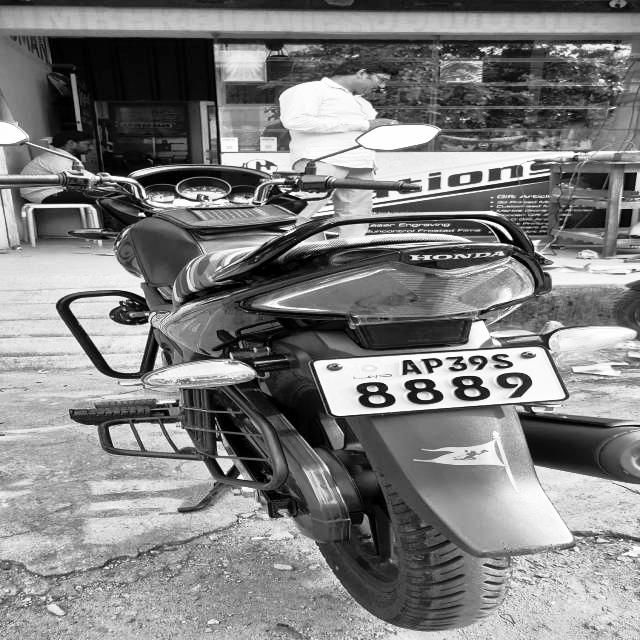Bike: (0, 125, 640, 639)
